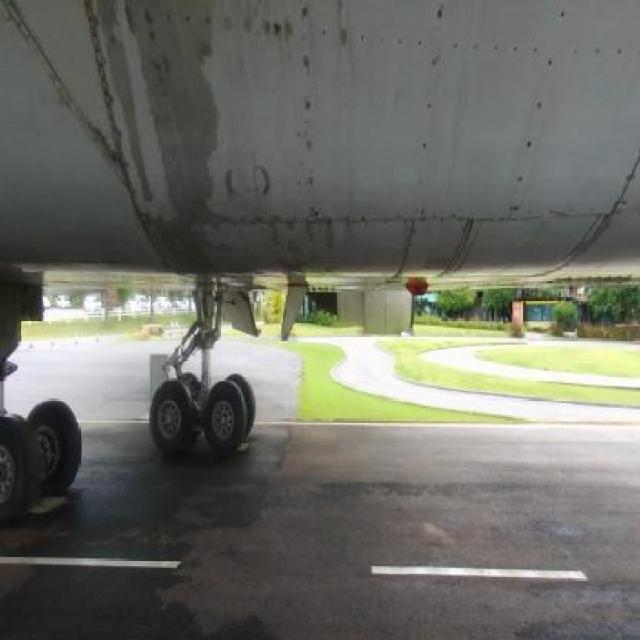Missing-Rivet: (529, 4, 640, 78), (294, 8, 326, 201), (418, 0, 444, 212), (235, 202, 411, 233), (506, 98, 551, 208), (452, 29, 523, 66)
Scartch: (92, 2, 237, 288), (251, 213, 352, 278), (218, 148, 285, 201), (238, 8, 296, 50), (332, 15, 354, 54)
